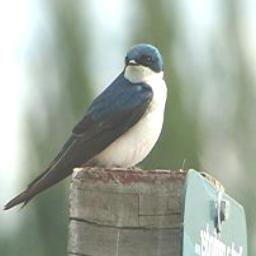Swallow: (3, 42, 169, 213)
